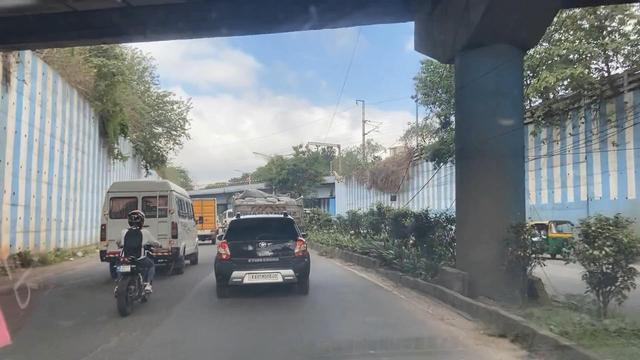HMV: (106, 182, 202, 272)
LMV: (221, 220, 310, 295), (115, 215, 158, 324)
RoadDamages: (60, 333, 156, 360)
